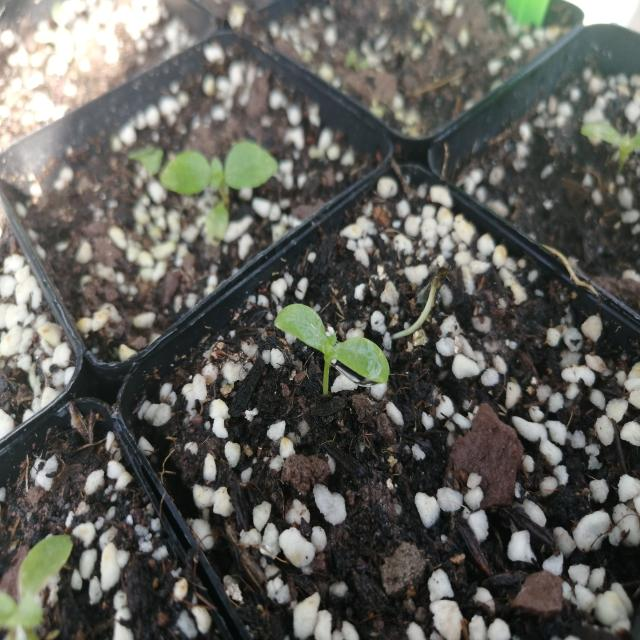field_thistle: (260, 274, 392, 424), (143, 101, 279, 221)
